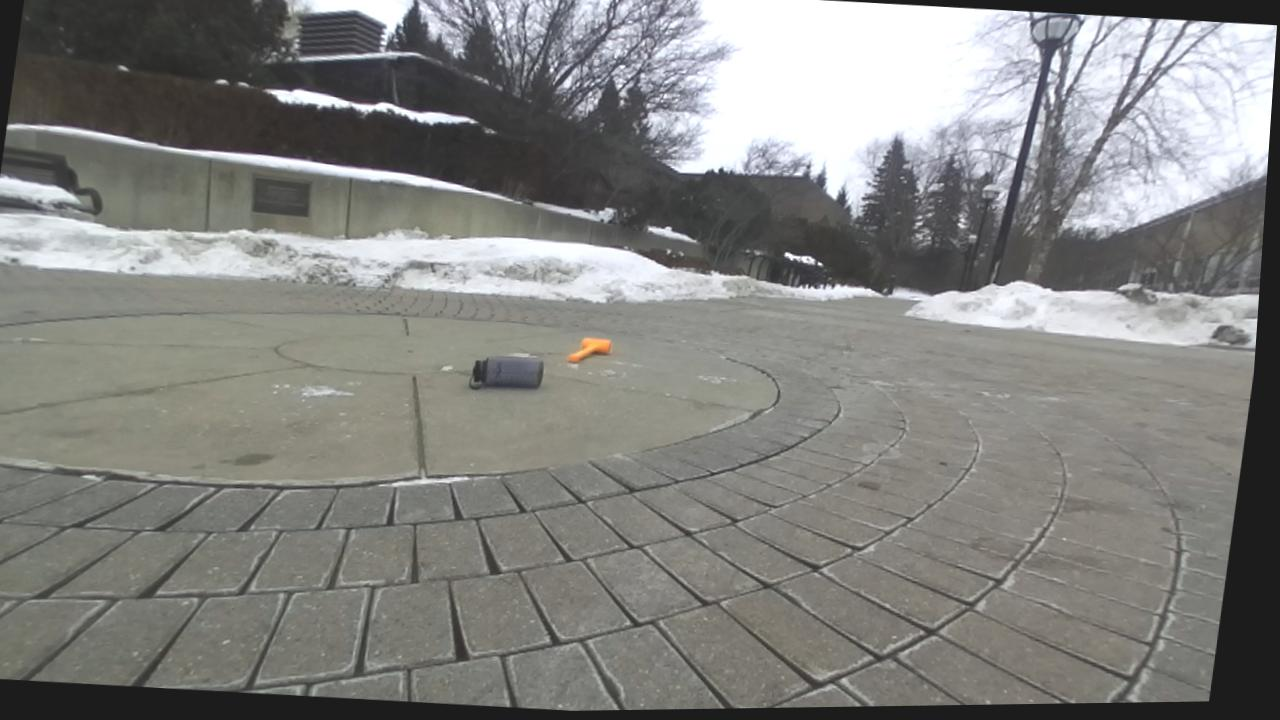bottle: (469, 356, 543, 388)
mallet: (569, 337, 609, 362)
